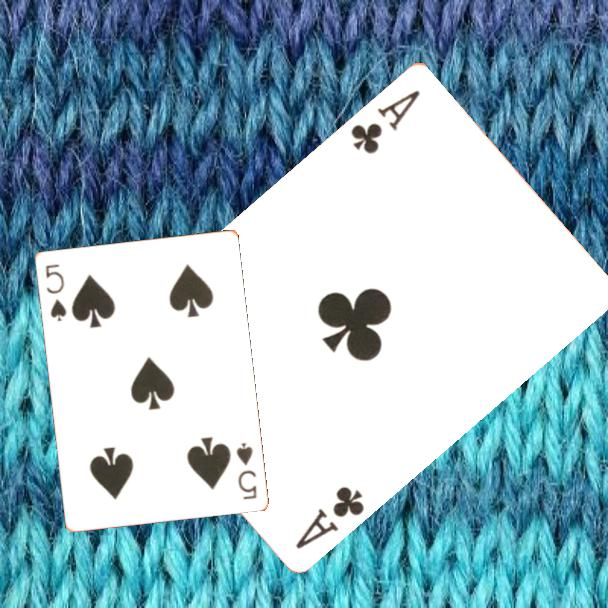c01: (347, 85, 424, 157), (292, 481, 368, 551)
s05: (41, 260, 69, 324), (232, 439, 259, 502)
